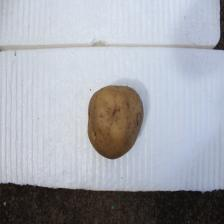Damaged potato: (81, 81, 149, 164)
